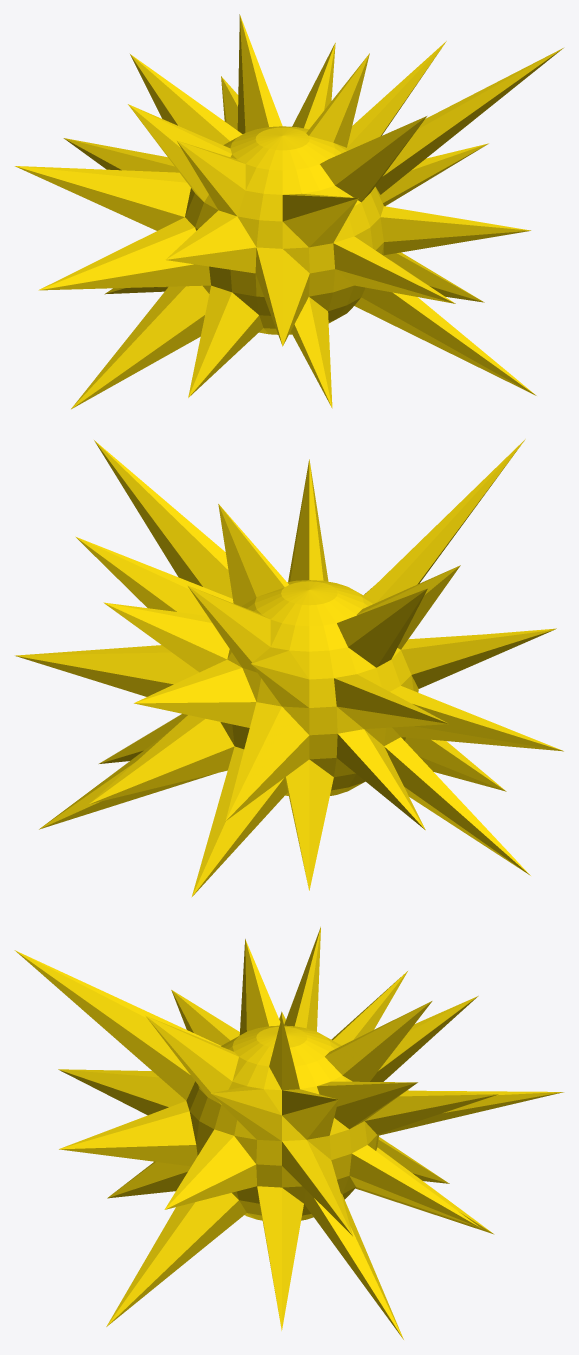
File: PlanetWueste.FBX
The picture shows the model from 3 angles, top to bottom: view 1: azimuth 30°, elevation 25°; view 2: azimuth 150°, elevation 25°; view 3: azimuth 270°, elevation 25°; orthographic projection. The views are drawn at different scales.
Parts seen in each view (by area): view 1: PlanetWueste; view 2: PlanetWueste; view 3: PlanetWueste.
Boxes of the visible parts, x1,y1,x2,y2 form: PlanetWueste: [15, 14, 563, 409]; PlanetWueste: [15, 439, 563, 897]; PlanetWueste: [14, 927, 563, 1339].
Bounding box in the file's own units: 8.05 × 4.61 × 8.32.
